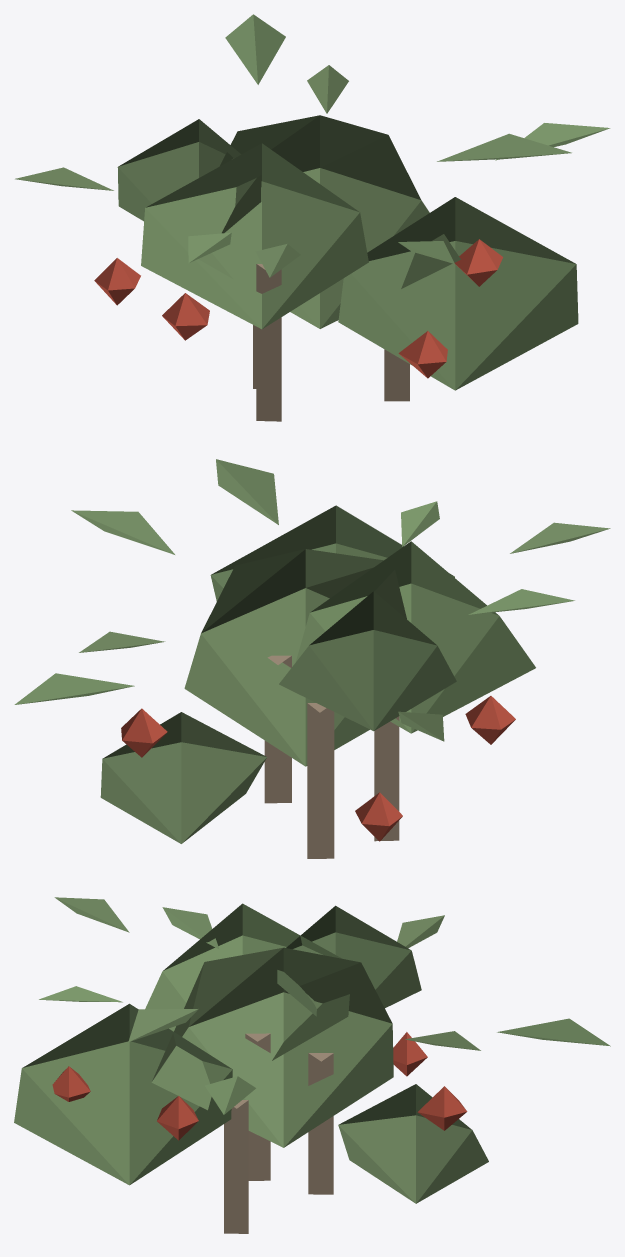
The model's file is guan.zhizi@fruiting__summer.glb.
The picture shows the model from 3 angles, top to bottom: view 1: azimuth 30°, elevation 25°; view 2: azimuth 150°, elevation 25°; view 3: azimuth 270°, elevation 25°; orthographic projection. The views are drawn at different scales.
Parts seen in each view (by area): view 1: guan.zhizi@fruiting__summer; view 2: guan.zhizi@fruiting__summer; view 3: guan.zhizi@fruiting__summer.
Boxes of the visible parts, left/top/right/bottom form: guan.zhizi@fruiting__summer: left=15, top=14, right=610, bottom=421; guan.zhizi@fruiting__summer: left=14, top=459, right=610, bottom=858; guan.zhizi@fruiting__summer: left=14, top=897, right=610, bottom=1233.
Bounding box in the file's own units: 2.51 × 1.46 × 2.89.
